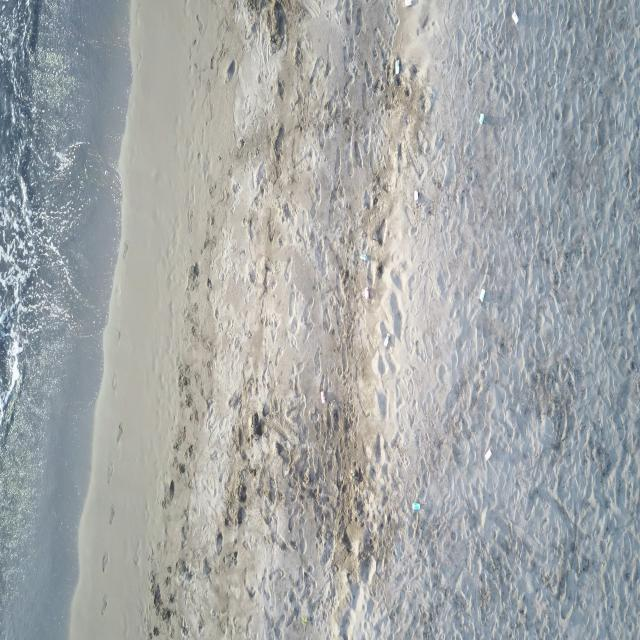Garbage: (393, 57, 400, 75), (384, 332, 391, 347), (477, 288, 484, 301), (362, 287, 369, 299), (484, 448, 491, 460), (413, 190, 419, 203), (360, 252, 368, 261), (412, 502, 420, 511), (300, 615, 307, 624), (479, 112, 484, 123), (404, 0, 415, 5), (512, 11, 516, 24), (320, 390, 324, 403)
